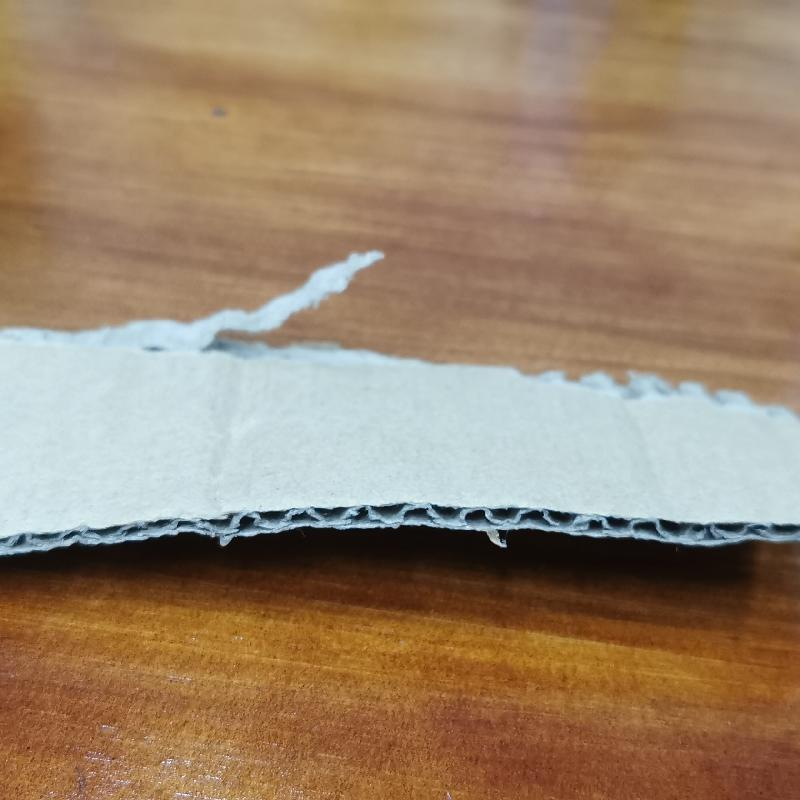boxes: (3, 245, 799, 565)
